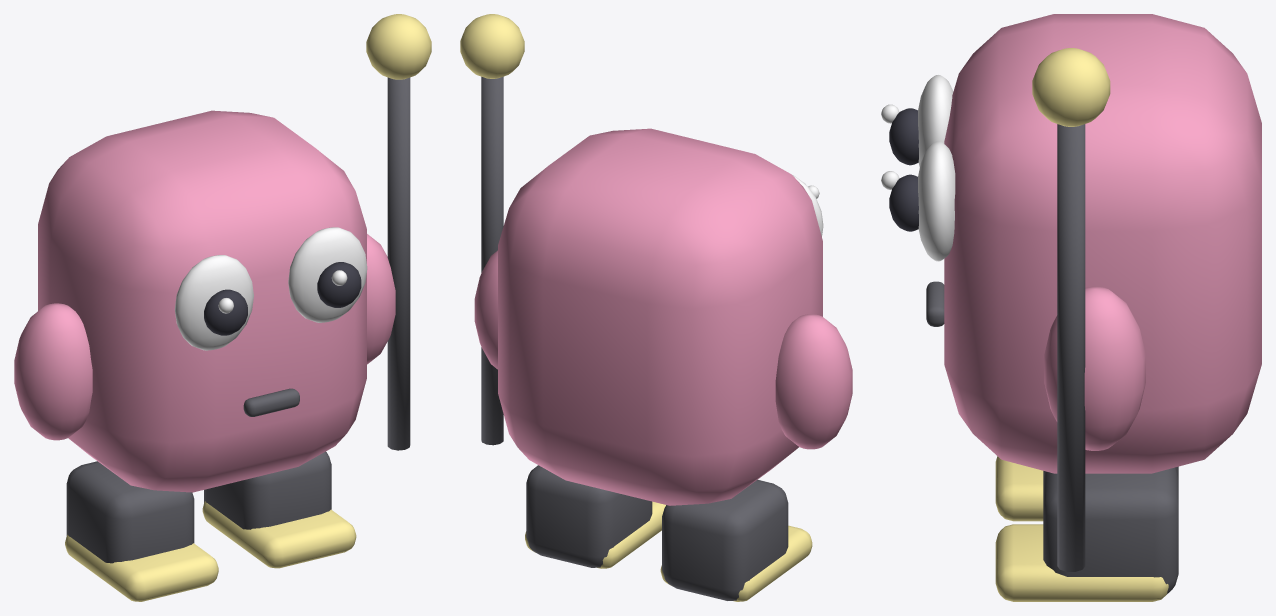
Rendered from pleb_mage.glb.
3 views of the same model, side by side, from view 1: azimuth 30°, elevation 25°; view 2: azimuth 150°, elevation 25°; view 3: azimuth 270°, elevation 25° (orthographic). The views are drawn at different scales.
Parts seen in each view (by area): view 1: pleb_mage; view 2: pleb_mage; view 3: pleb_mage.
Boxes of the visible parts, x1=… form: pleb_mage: x1=14, y1=14, x2=431, y2=601; pleb_mage: x1=460, y1=14, x2=852, y2=601; pleb_mage: x1=881, y1=14, x2=1261, y2=601.
Size of the model in its own units: 1.38 by 1.66 by 0.959.
